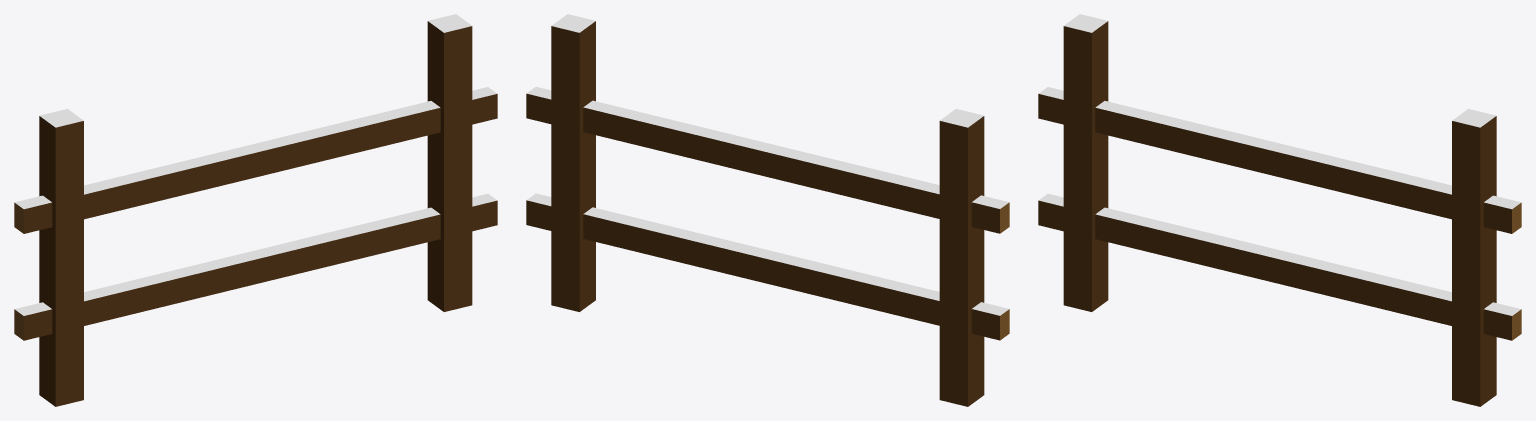
The model's file is WinterFence_01.fbx.
3 renders of one model, left to right at view 1: azimuth 30°, elevation 25°; view 2: azimuth 150°, elevation 25°; view 3: azimuth 330°, elevation 25°, orthographic.
Visible parts, largest first — view 1: WinterFence_01; view 2: WinterFence_01; view 3: WinterFence_01.
Part boxes in pixels (<box>): WinterFence_01: <box>14,14,497,406</box>; WinterFence_01: <box>526,14,1009,406</box>; WinterFence_01: <box>1038,14,1521,406</box>.
Bounding box in the file's own units: 0.3333 × 0.1878 × 0.02.
